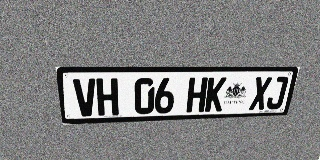0: (134, 78, 155, 115)
6: (154, 78, 175, 114)
H: (96, 78, 118, 116), (186, 77, 208, 113)
J: (265, 77, 289, 110)
K: (204, 77, 227, 112)
V: (73, 78, 97, 117)
X: (249, 77, 272, 110)
